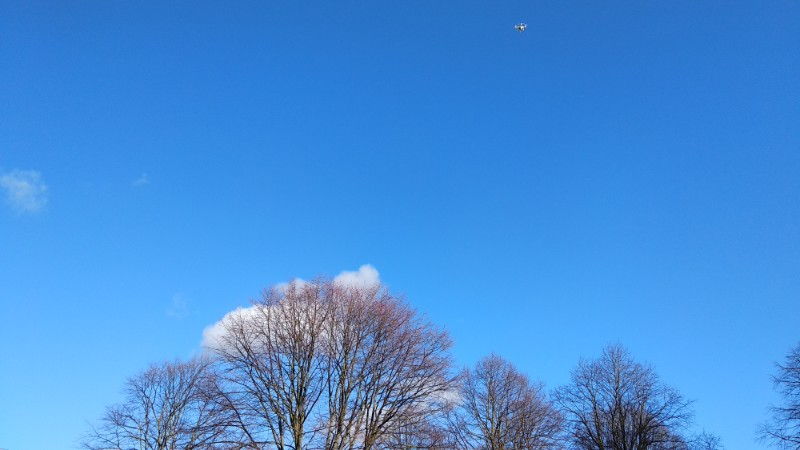drone: (513, 21, 528, 33)
